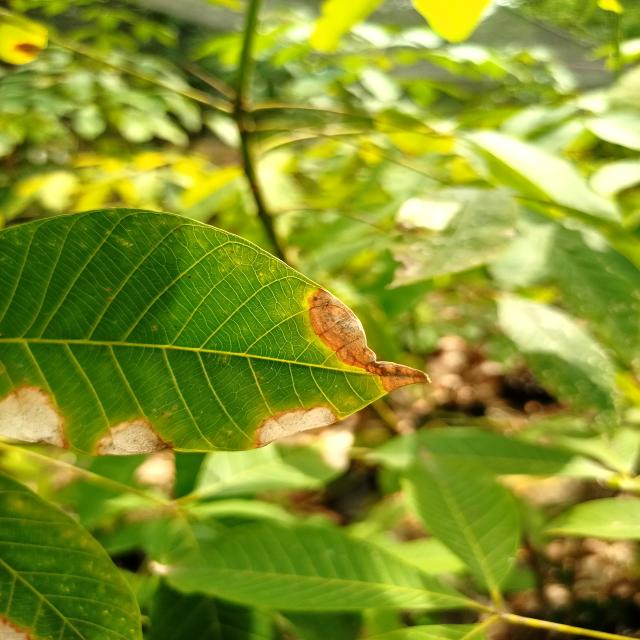Colletotrichum: (313, 296, 318, 300)
Leaf-Blight: (308, 286, 432, 392), (0, 384, 71, 450), (254, 405, 339, 449), (97, 418, 173, 456)
